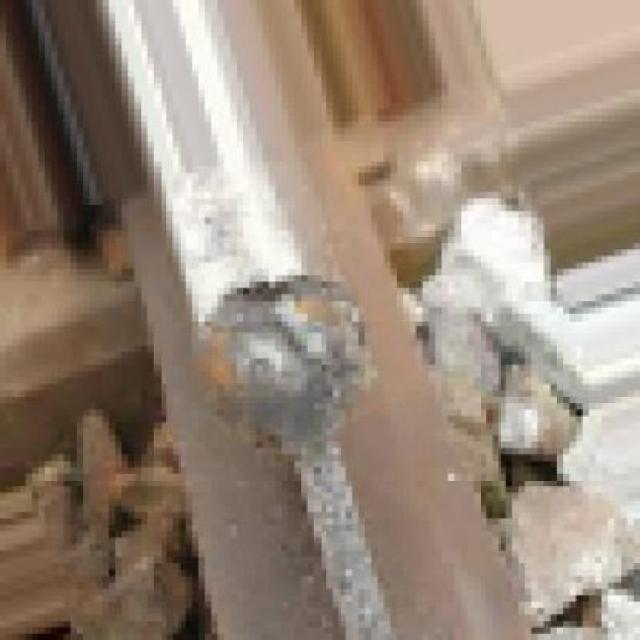defective: (119, 221, 470, 558)
